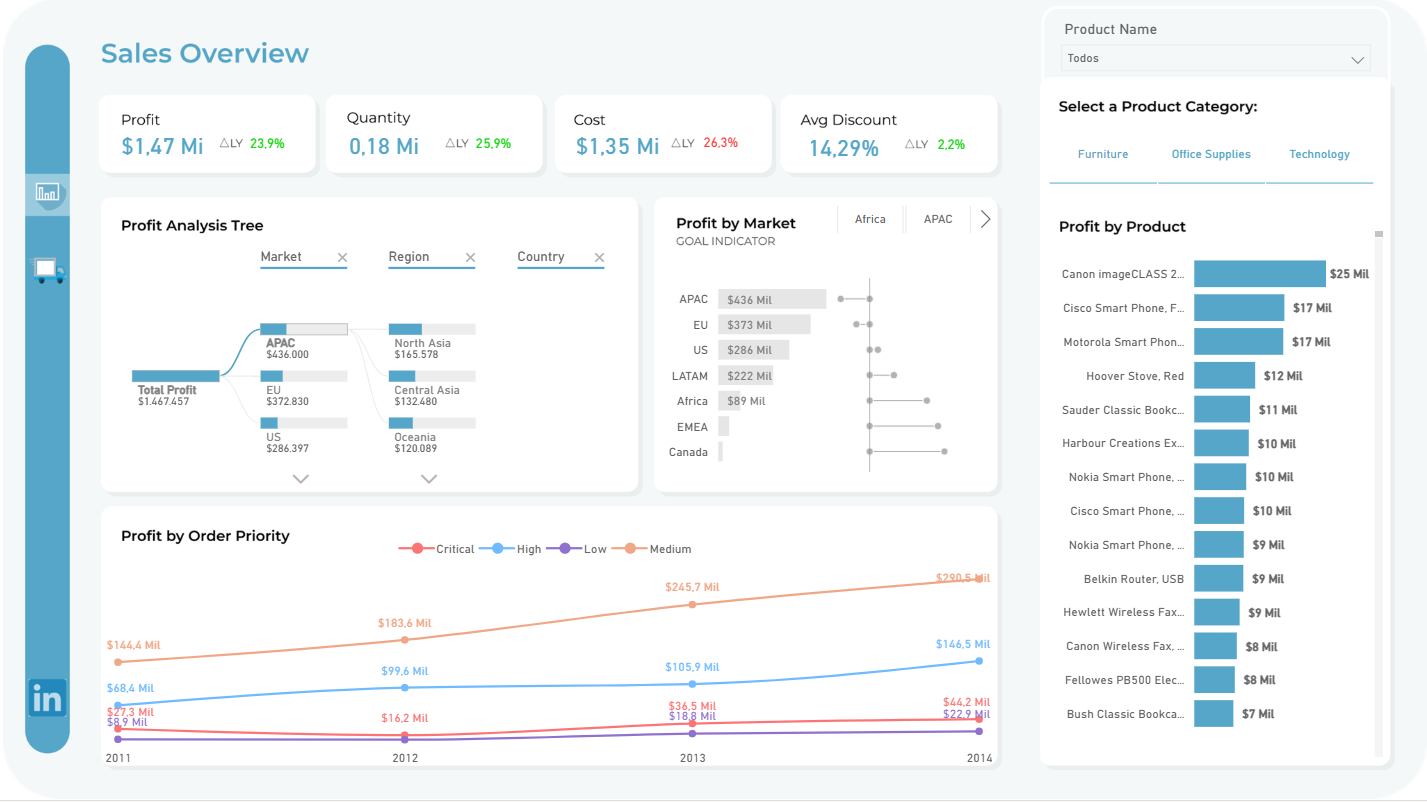

The dashboard page shown, as its layout file describes it:
{"tool":"powerbi","page":{"name":"Sales","canvas":[1280,720],"ordinal":0},"visuals":[{"type":"card","fields":{"Values":["Sum(itens_pedidos.Profit)"]},"box":[94.4,93.5,97.8,78.9],"z":0},{"type":"lineChart","title":"Profit by Ship Mode","fields":{"Y":["Sum(itens_pedidos.Profit)"],"Series":["itens_pedidos.Order Priority"],"Category":["Calendario.Date.Variation.Hierarquia de datas.Ano","Calendario.Date.Variation.Hierarquia de datas.Trimestre","Calendario.Date.Variation.Hierarquia de datas.Mês"]},"box":[86.3,470.1,807.7,226.3],"z":1000},{"type":"decompositionTreeVisual","fields":{"Analyze":["Sum(itens_pedidos.Profit)"],"ExplainBy":["itens_pedidos.Market","itens_pedidos.Region","itens_pedidos.Country"]},"box":[85.7,206.3,487.4,237.7],"z":2000},{"type":"clusteredBarChart","title":"Profit by Market / Goal Indicator","fields":{"Category":["itens_pedidos.Market"],"Y":["Sum(itens_pedidos.Profit)"]},"box":[591.2,234,302.8,196.6],"z":3000},{"type":"clusteredBarChart","title":"Profit by Product","fields":{"Category":["produtos.Product Name"],"Y":["Sum(itens_pedidos.Profit)"]},"box":[935,191.2,310,496.2],"z":4000},{"type":"slicer","fields":{"Values":["produtos.Category"]},"box":[914.4,106.7,340,66.7],"z":5000},{"type":"card","fields":{"Values":["Sum(itens_pedidos.Quantity)"]},"box":[287.8,93.5,107.8,78.9],"z":6000},{"type":"card","fields":{"Values":["Sum(itens_pedidos.Shipping Cost)"]},"box":[501.1,93.5,101.1,78.9],"z":7000},{"type":"card","fields":{"Values":["Avg(itens_pedidos.Discount)"]},"box":[711.1,94.6,86.7,78.9],"z":8000},{"type":"card","fields":{"Values":["Medidas.Delta Lucro Ano Anterior"]},"box":[207.8,117.9,57.8,26.7],"z":9000},{"type":"card","fields":{"Values":["Medidas.Delta Quantidade Ano Anterior"]},"box":[411.1,117.9,57.8,26.7],"z":10000},{"type":"card","fields":{"Values":["Medidas.Delta Custo Ano Anterior"]},"box":[615.6,116.8,57.8,24.4],"z":11000},{"type":"card","fields":{"Values":["Medidas.Delta Desconto Ano Anterior"]},"box":[822.2,119,57.8,26.7],"z":12000},{"type":"actionButton","box":[19.3,224.4,38.6,39.8],"z":13000},{"type":"actionButton","box":[19.3,610.5,38.6,39.8],"z":14000},{"type":"slicer","fields":{"Values":["produtos.Product Name"]},"box":[932.6,7.2,314,85.7],"z":15000},{"type":"slicer","fields":{"Values":["itens_pedidos.Market"]},"box":[723.9,179.8,170.1,36.2],"z":16000}]}

Visuals, with their boxes on the page's 1280x720 design canvas (x1, y1, x2, y2). These are canvas units, not pixel positions in the 1427x802 screenshot, which may show the page scaled, cropped or inside an application window:
card - Sum(itens_pedidos.Profit): [x1=94, y1=94, x2=192, y2=172]
"Profit by Ship Mode" lineChart: [x1=86, y1=470, x2=894, y2=696]
decompositionTreeVisual - Sum(itens_pedidos.Profit) x itens_pedidos.Market: [x1=86, y1=206, x2=573, y2=444]
"Profit by Market / Goal Indicator" clusteredBarChart: [x1=591, y1=234, x2=894, y2=431]
"Profit by Product" clusteredBarChart: [x1=935, y1=191, x2=1245, y2=687]
slicer - produtos.Category: [x1=914, y1=107, x2=1254, y2=173]
card - Sum(itens_pedidos.Quantity): [x1=288, y1=94, x2=396, y2=172]
card - Sum(itens_pedidos.Shipping Cost): [x1=501, y1=94, x2=602, y2=172]
card - Avg(itens_pedidos.Discount): [x1=711, y1=95, x2=798, y2=174]
card - Medidas.Delta Lucro Ano Anterior: [x1=208, y1=118, x2=266, y2=145]
card - Medidas.Delta Quantidade Ano Anterior: [x1=411, y1=118, x2=469, y2=145]
card - Medidas.Delta Custo Ano Anterior: [x1=616, y1=117, x2=673, y2=141]
card - Medidas.Delta Desconto Ano Anterior: [x1=822, y1=119, x2=880, y2=146]
actionButton: [x1=19, y1=224, x2=58, y2=264]
actionButton: [x1=19, y1=610, x2=58, y2=650]
slicer - produtos.Product Name: [x1=933, y1=7, x2=1247, y2=93]
slicer - itens_pedidos.Market: [x1=724, y1=180, x2=894, y2=216]
